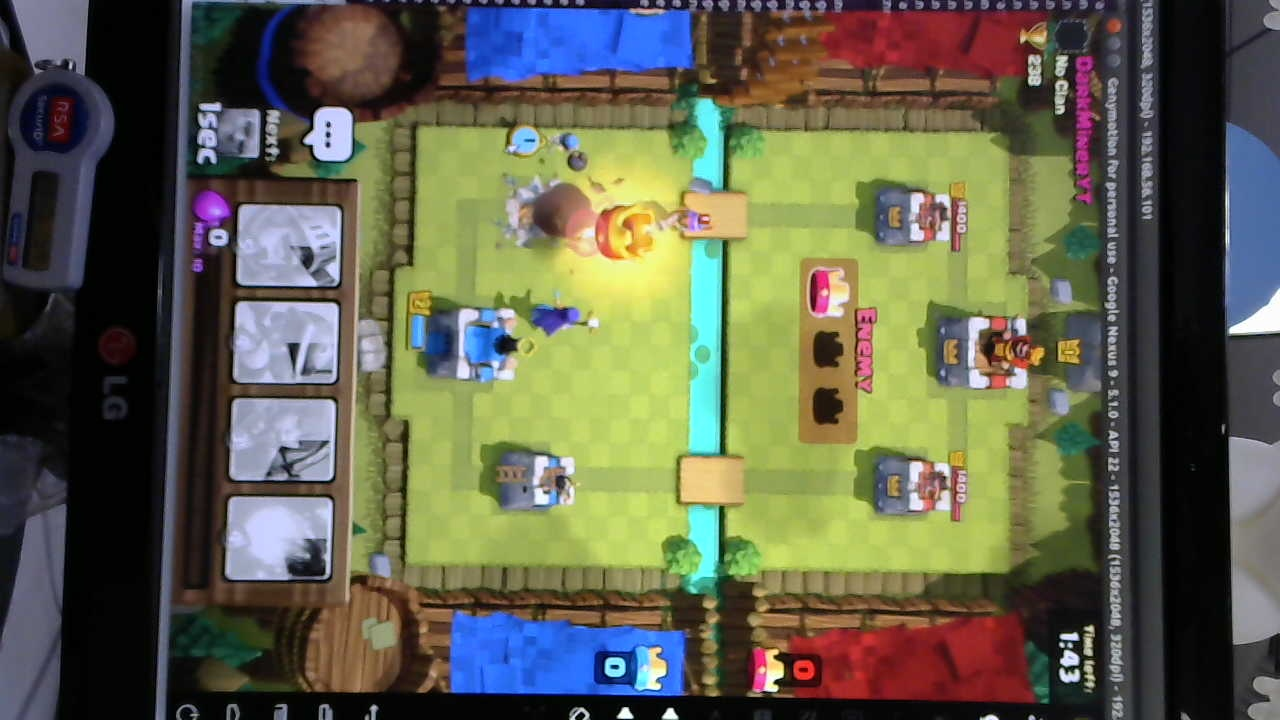arena: (497, 446, 576, 512)
bomb: (545, 126, 584, 160)
earena: (870, 457, 954, 520), (871, 187, 952, 246)
eking: (933, 311, 1042, 393)
king: (430, 300, 526, 386)
musketeer: (652, 209, 708, 237)
witch: (533, 298, 608, 340)
